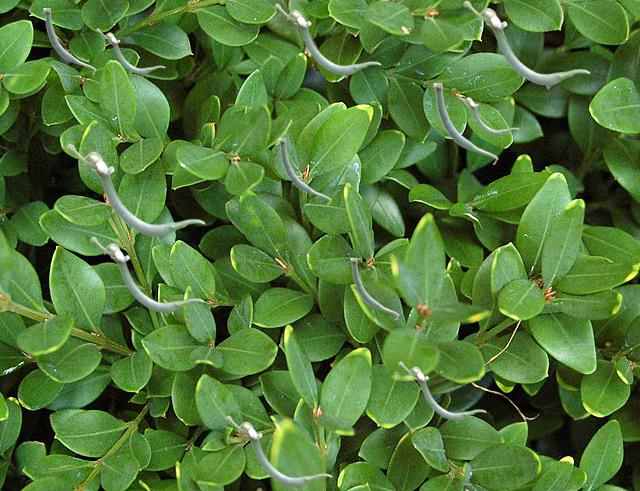french_bean: (66, 143, 204, 240), (463, 0, 589, 88), (90, 236, 203, 315), (274, 3, 380, 77), (225, 415, 331, 489), (398, 361, 485, 422), (433, 83, 497, 164), (43, 8, 95, 74), (278, 138, 330, 204), (96, 28, 164, 75), (350, 258, 398, 319), (456, 93, 518, 136)
